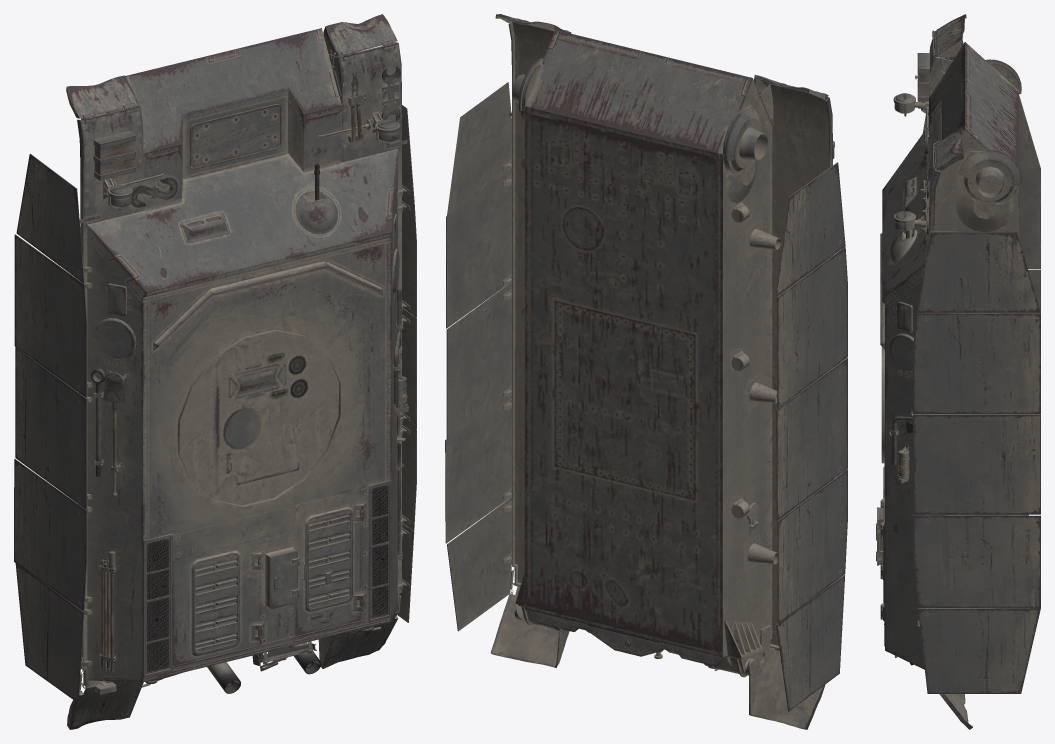
The model's file is Hull.glb.
3 views of the same model, side by side, from view 1: azimuth 30°, elevation 25°; view 2: azimuth 150°, elevation 25°; view 3: azimuth 270°, elevation 25° (orthographic). The views are drawn at different scales.
Parts seen in each view (by area): view 1: set_0_group_0; view 2: set_0_group_0; view 3: set_0_group_0.
Boxes of the visible parts, <box> form: set_0_group_0: <box>14,14,416,729</box>; set_0_group_0: <box>445,14,847,729</box>; set_0_group_0: <box>876,14,1040,729</box>.
Bounding box in the file's own units: 3.27 × 6.03 × 1.55.
Materials: 1 (1 with a texture image).
